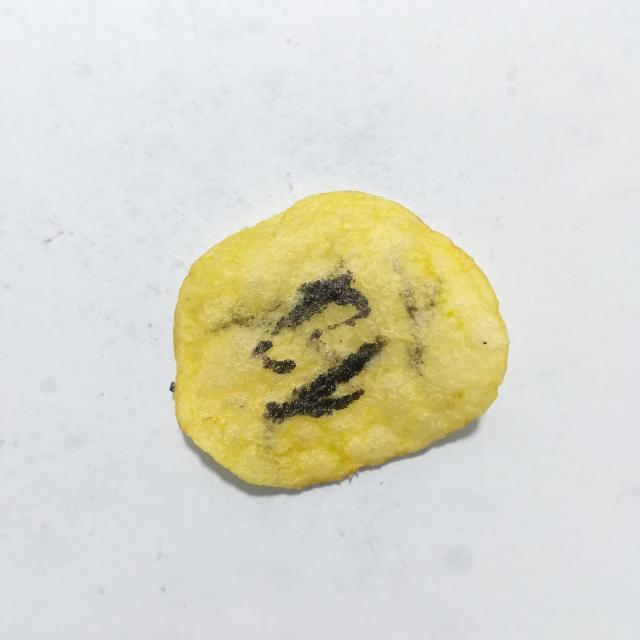chip: (174, 191, 509, 488)
damaged: (264, 340, 383, 423), (271, 271, 370, 335), (263, 356, 296, 374), (253, 340, 273, 356), (311, 329, 322, 339)
semi-damaged: (213, 283, 309, 334), (401, 281, 439, 372), (292, 325, 345, 367)
